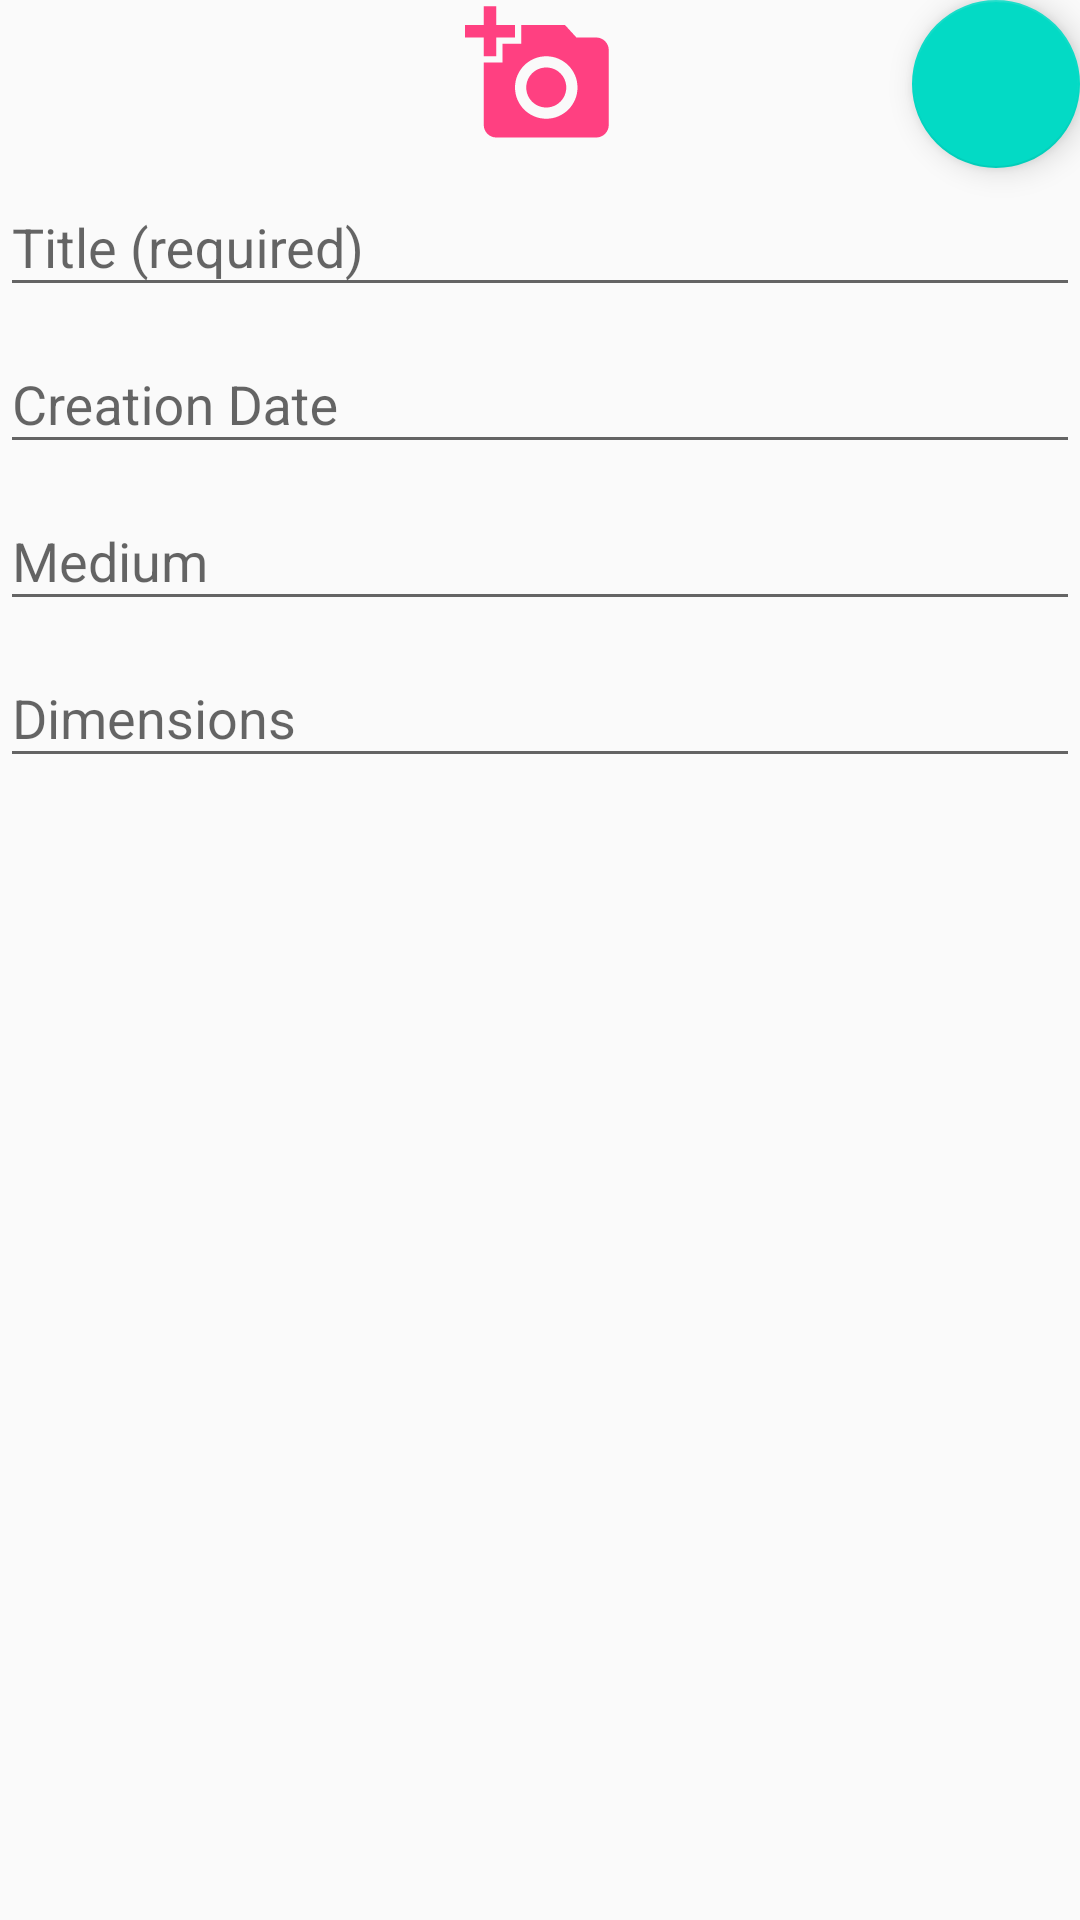

Screen size 1080px×1920px. Icon name, then its center in pixels as (x=x, y=y):
add photo: (x=537, y=72)
